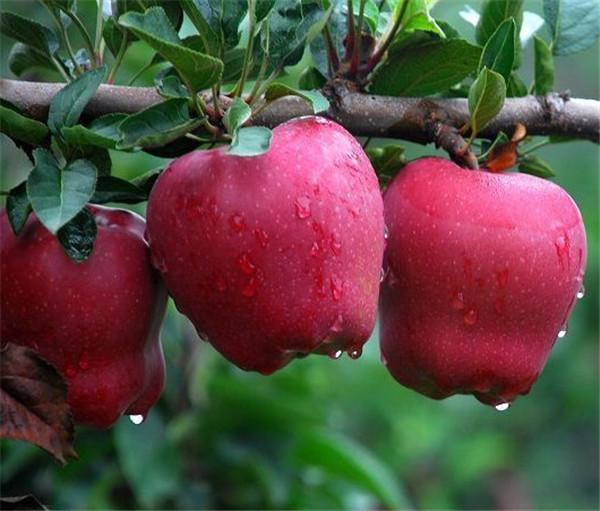apple: (146, 112, 384, 374), (372, 156, 586, 407), (2, 200, 172, 430)
